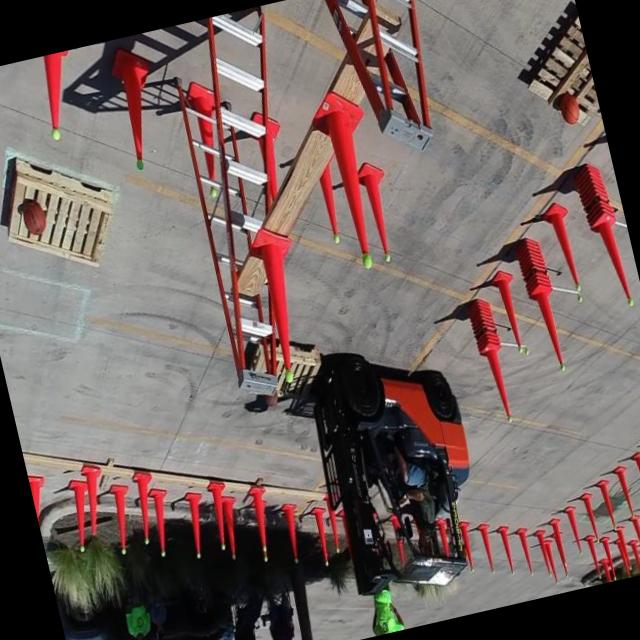driver: (379, 428, 444, 561)
forklift: (300, 341, 500, 605)
person: (364, 583, 405, 636), (123, 594, 154, 640)
